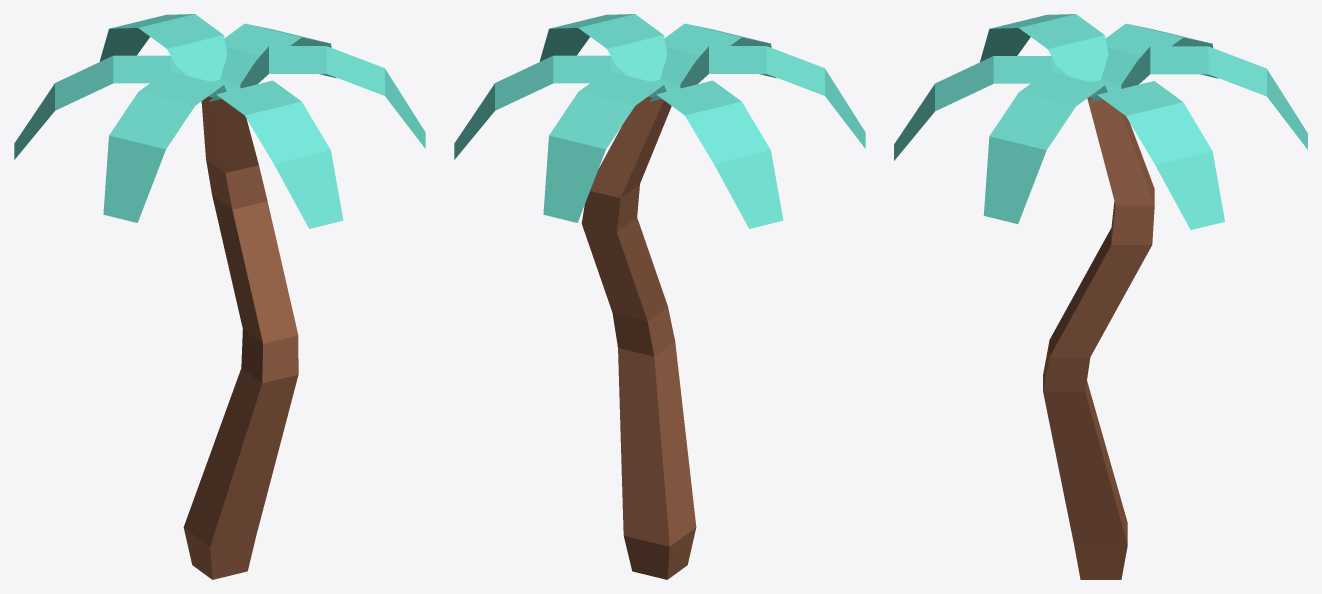
The model's file is TREE.glb.
3 views of the same model, side by side, from view 1: azimuth 30°, elevation 25°; view 2: azimuth 150°, elevation 25°; view 3: azimuth 270°, elevation 25° (orthographic).
Parts seen in each view (by area): view 1: tree_palmBend; view 2: tree_palmBend; view 3: tree_palmBend.
Boxes of the visible parts, x1,y1,x2,y2 form: tree_palmBend: (14,14,425,579); tree_palmBend: (454,14,865,579); tree_palmBend: (894,14,1307,579).
Bounding box in the file's own units: 19.56 × 28.85 × 21.18.
